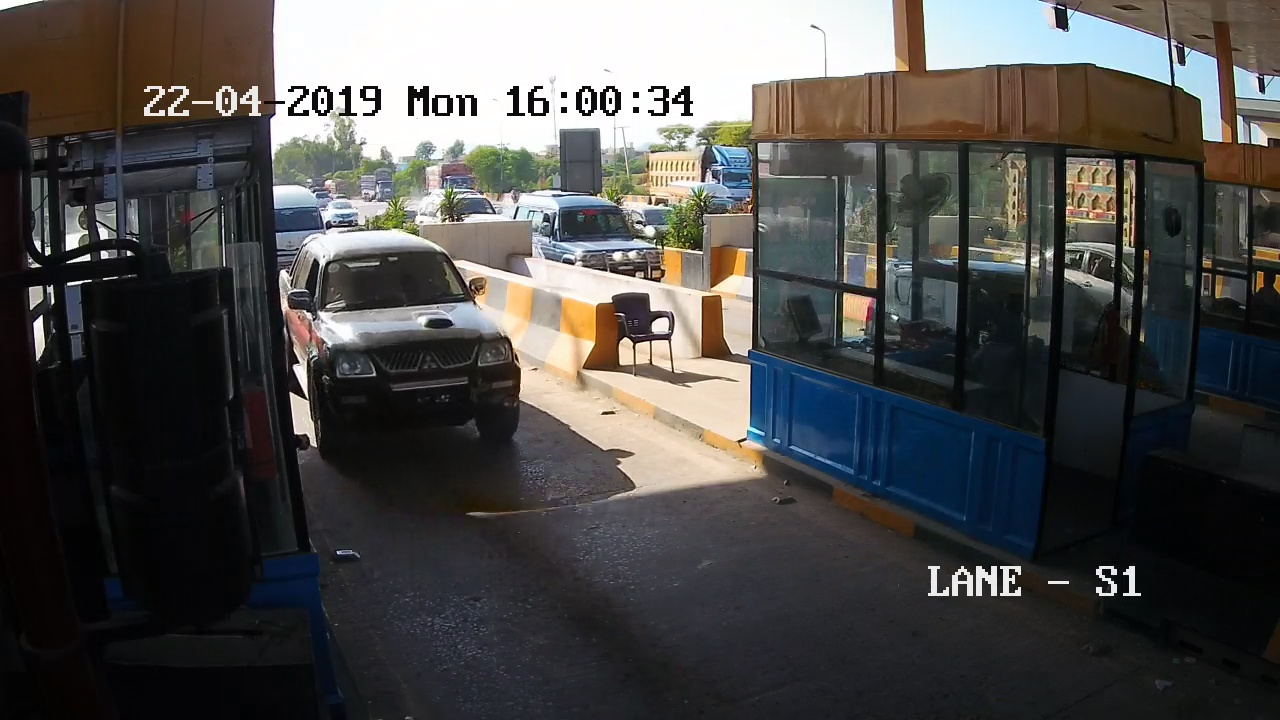car: (277, 241, 547, 502)
